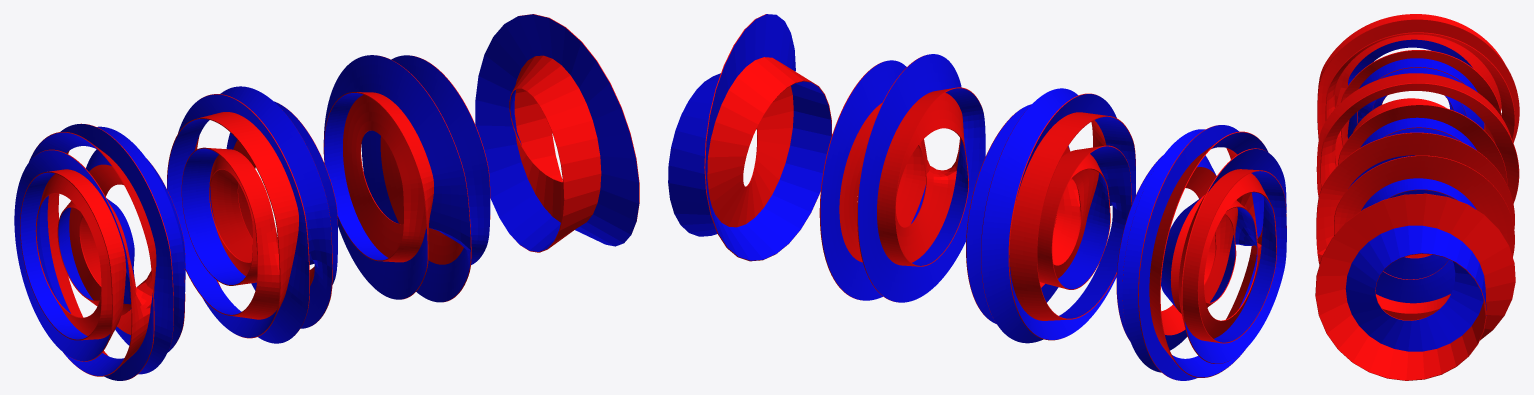
The model's file is nice3folded.glb.
3 views of the same model, side by side, from view 1: azimuth 30°, elevation 25°; view 2: azimuth 150°, elevation 25°; view 3: azimuth 270°, elevation 25° (orthographic). The views are drawn at different scales.
Visible parts, largest first — view 1: Circle.001_T_alt, Circle.002_T_alt, Circle.003_T_alt, Circle_T_alt; view 2: Circle.002_T_alt, Circle.003_T_alt, Circle.001_T_alt, Circle_T_alt; view 3: Circle_T_alt, Circle.001_T_alt, Circle.003_T_alt, Circle.002_T_alt.
Boxes of the visible parts, x1,y1,x2,y2 form: Circle.001_T_alt: (323,55,490,302); Circle.002_T_alt: (167,86,337,343); Circle.003_T_alt: (14,123,185,380); Circle_T_alt: (475,14,639,252); Circle.002_T_alt: (966,88,1135,343); Circle.003_T_alt: (1116,125,1286,380); Circle.001_T_alt: (819,54,985,302); Circle_T_alt: (668,14,832,261); Circle_T_alt: (1315,193,1515,380); Circle.001_T_alt: (1316,132,1514,320); Circle.003_T_alt: (1317,14,1519,166); Circle.002_T_alt: (1316,73,1519,257).
Size of the model in its own units: 7 by 2.98 by 2.93.
